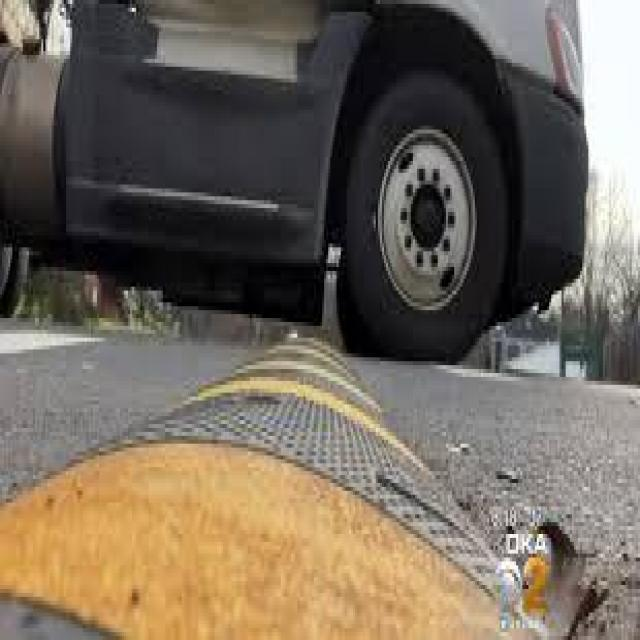speedbreaker: (0, 325, 577, 640)
